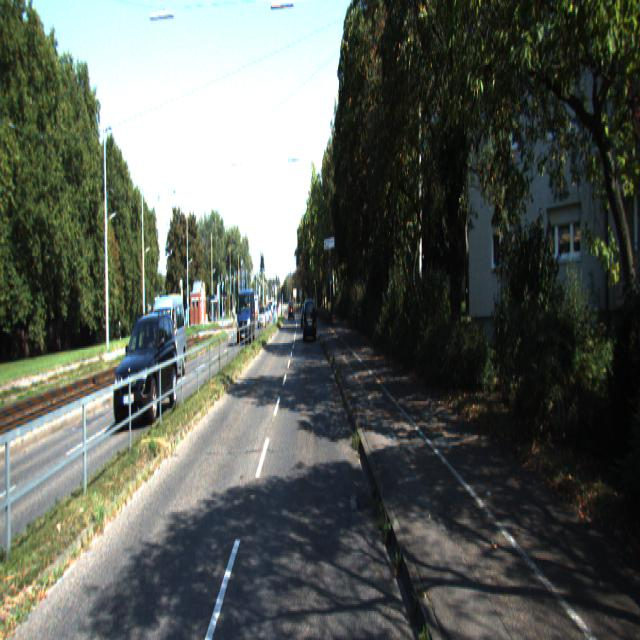Car: (114, 308, 179, 426), (146, 291, 187, 383), (237, 288, 256, 346), (304, 299, 317, 344)
